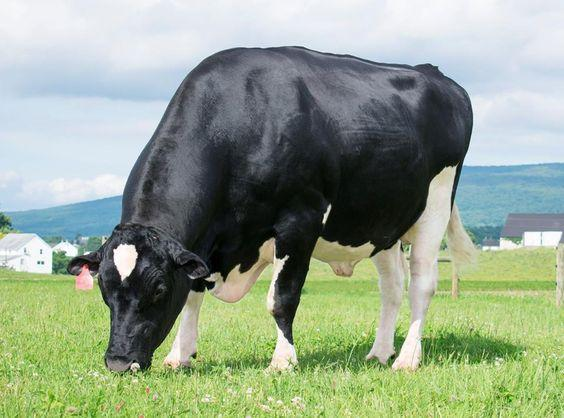cow: (81, 53, 478, 375)
